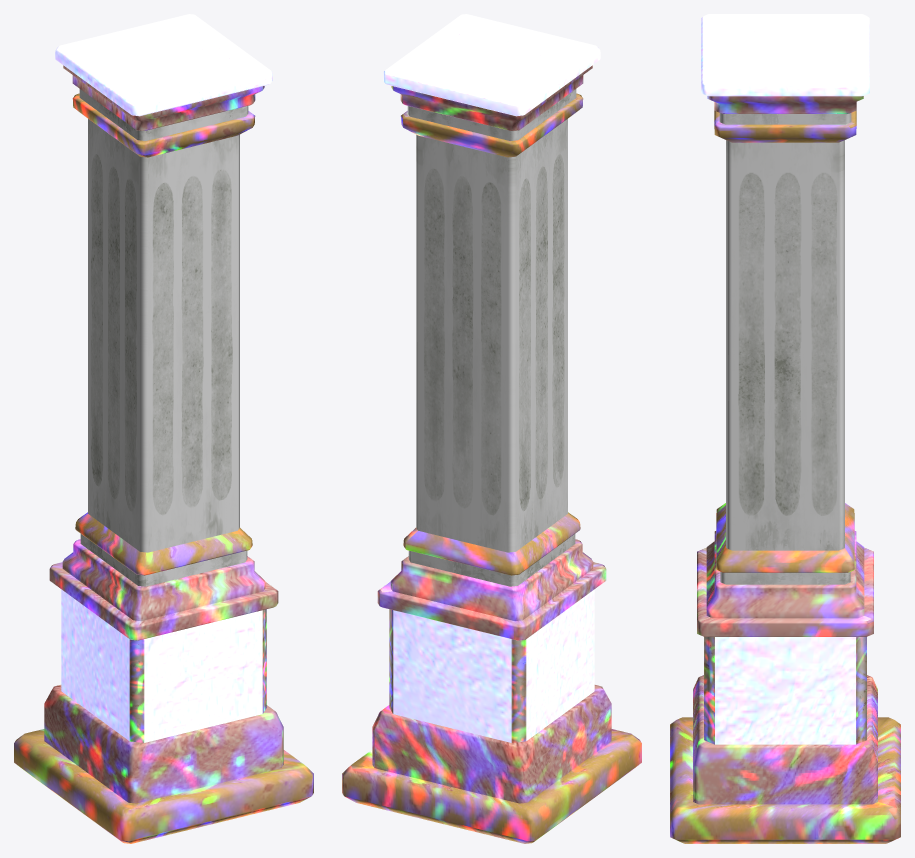
The model's file is square_pillar_SM.fbx.
The picture shows the model from 3 angles, left to right: view 1: azimuth 30°, elevation 25°; view 2: azimuth 150°, elevation 25°; view 3: azimuth 270°, elevation 25°; orthographic projection. The views are drawn at different scales.
Parts seen in each view (by area): view 1: square_pillar_SM_LOD0; view 2: square_pillar_SM_LOD0; view 3: square_pillar_SM_LOD0.
Part boxes in pixels (bbox=[...]): square_pillar_SM_LOD0: bbox=[14, 14, 313, 843]; square_pillar_SM_LOD0: bbox=[342, 14, 641, 843]; square_pillar_SM_LOD0: bbox=[670, 14, 900, 843].
Bounding box in the file's own units: 137 × 137 × 491.
Materials: 5 (4 with a texture image).
